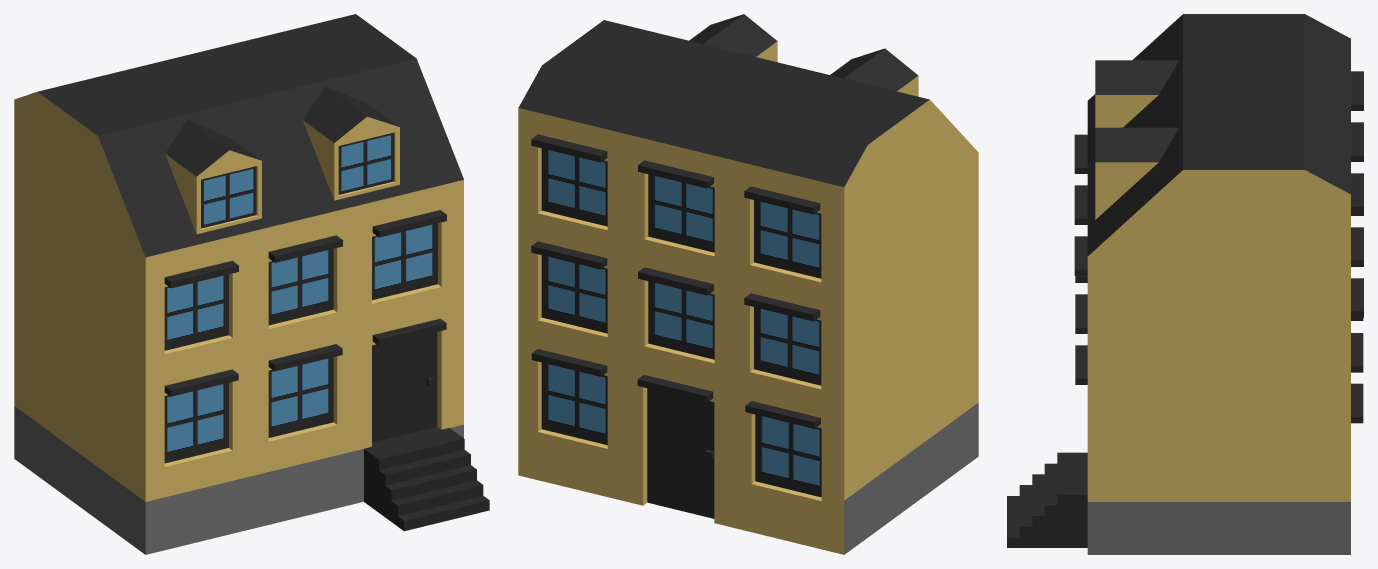
Rendered from NormalSquereYellow.obj.
3 views of the same model, side by side, from view 1: azimuth 30°, elevation 25°; view 2: azimuth 150°, elevation 25°; view 3: azimuth 270°, elevation 25° (orthographic). The views are drawn at different scales.
Visible parts, largest first — view 1: ZwyklayKwadratowyZolty.001; view 2: ZwyklayKwadratowyZolty.001; view 3: ZwyklayKwadratowyZolty.001.
Part boxes in pixels (x1,y1,x2,y2): ZwyklayKwadratowyZolty.001: (14, 14, 489, 554); ZwyklayKwadratowyZolty.001: (518, 14, 978, 554); ZwyklayKwadratowyZolty.001: (1007, 14, 1363, 554).
Bounding box in the file's own units: 7 × 8.07 × 6.78.
